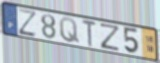5: (122, 25, 141, 55)
8: (40, 13, 58, 41)
Q: (58, 17, 81, 45)
T: (81, 19, 98, 49)
Z: (99, 22, 122, 53), (17, 7, 38, 38)
